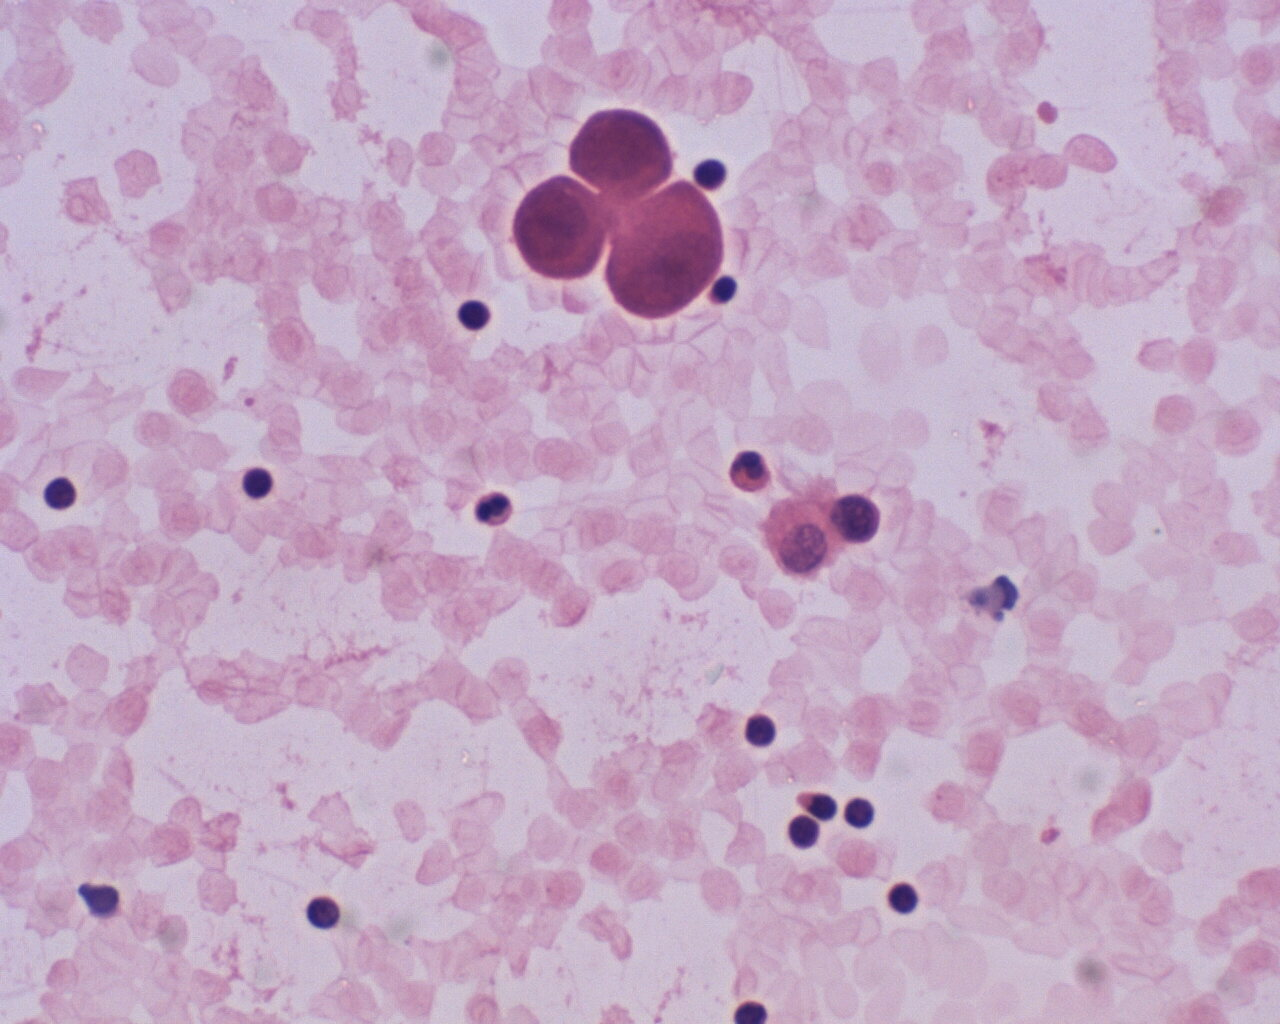ab: (602, 176, 734, 320), (512, 171, 609, 288), (568, 104, 674, 197)
lymph: (734, 701, 788, 758), (300, 885, 355, 934), (37, 471, 93, 519), (880, 872, 920, 920), (452, 295, 498, 334), (839, 795, 880, 835), (239, 463, 278, 503)
neutro: (470, 486, 516, 531)
